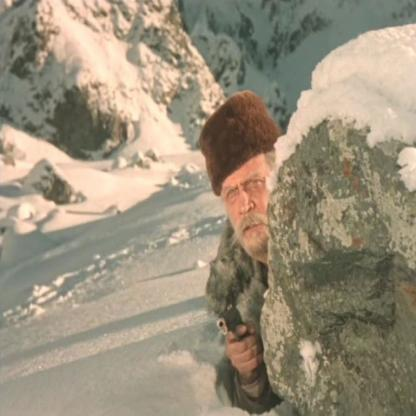gun: (208, 289, 252, 350)
